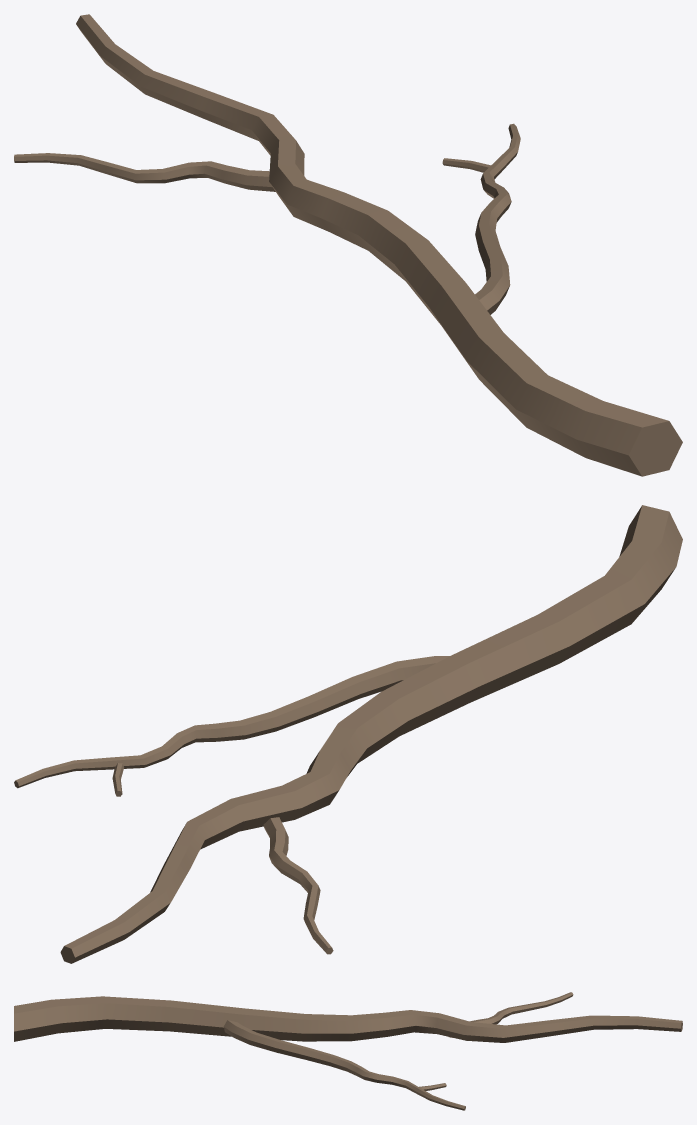
The model's file is E_Twig.fbx.
The picture shows the model from 3 angles, top to bottom: view 1: azimuth 30°, elevation 25°; view 2: azimuth 150°, elevation 25°; view 3: azimuth 270°, elevation 25°; orthographic projection. The views are drawn at different scales.
Visible parts, largest first — view 1: pCylinder1, pCylinder3, pCylinder2; view 2: pCylinder1, pCylinder2, pCylinder3; view 3: pCylinder1, pCylinder2, pCylinder3.
Part boxes in pixels (x1,y1,x2,y2): pCylinder1: (76,14,682,476); pCylinder3: (14,153,275,191); pCylinder2: (475,123,520,314); pCylinder1: (60,505,682,963); pCylinder2: (14,656,449,788); pCylinder3: (263,817,333,954); pCylinder1: (14,996,682,1042); pCylinder2: (223,1020,465,1110); pCylinder3: (448,992,573,1037).
Bounding box in the file's own units: 4.96 × 0.6265 × 12.13.
